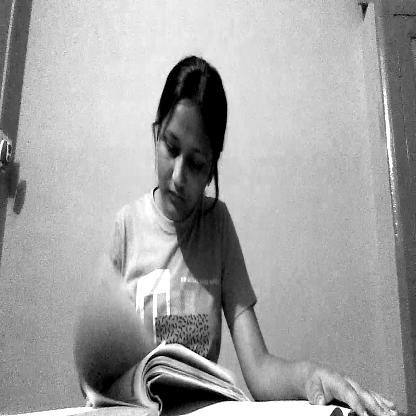Distracted: (150, 62, 223, 228)
